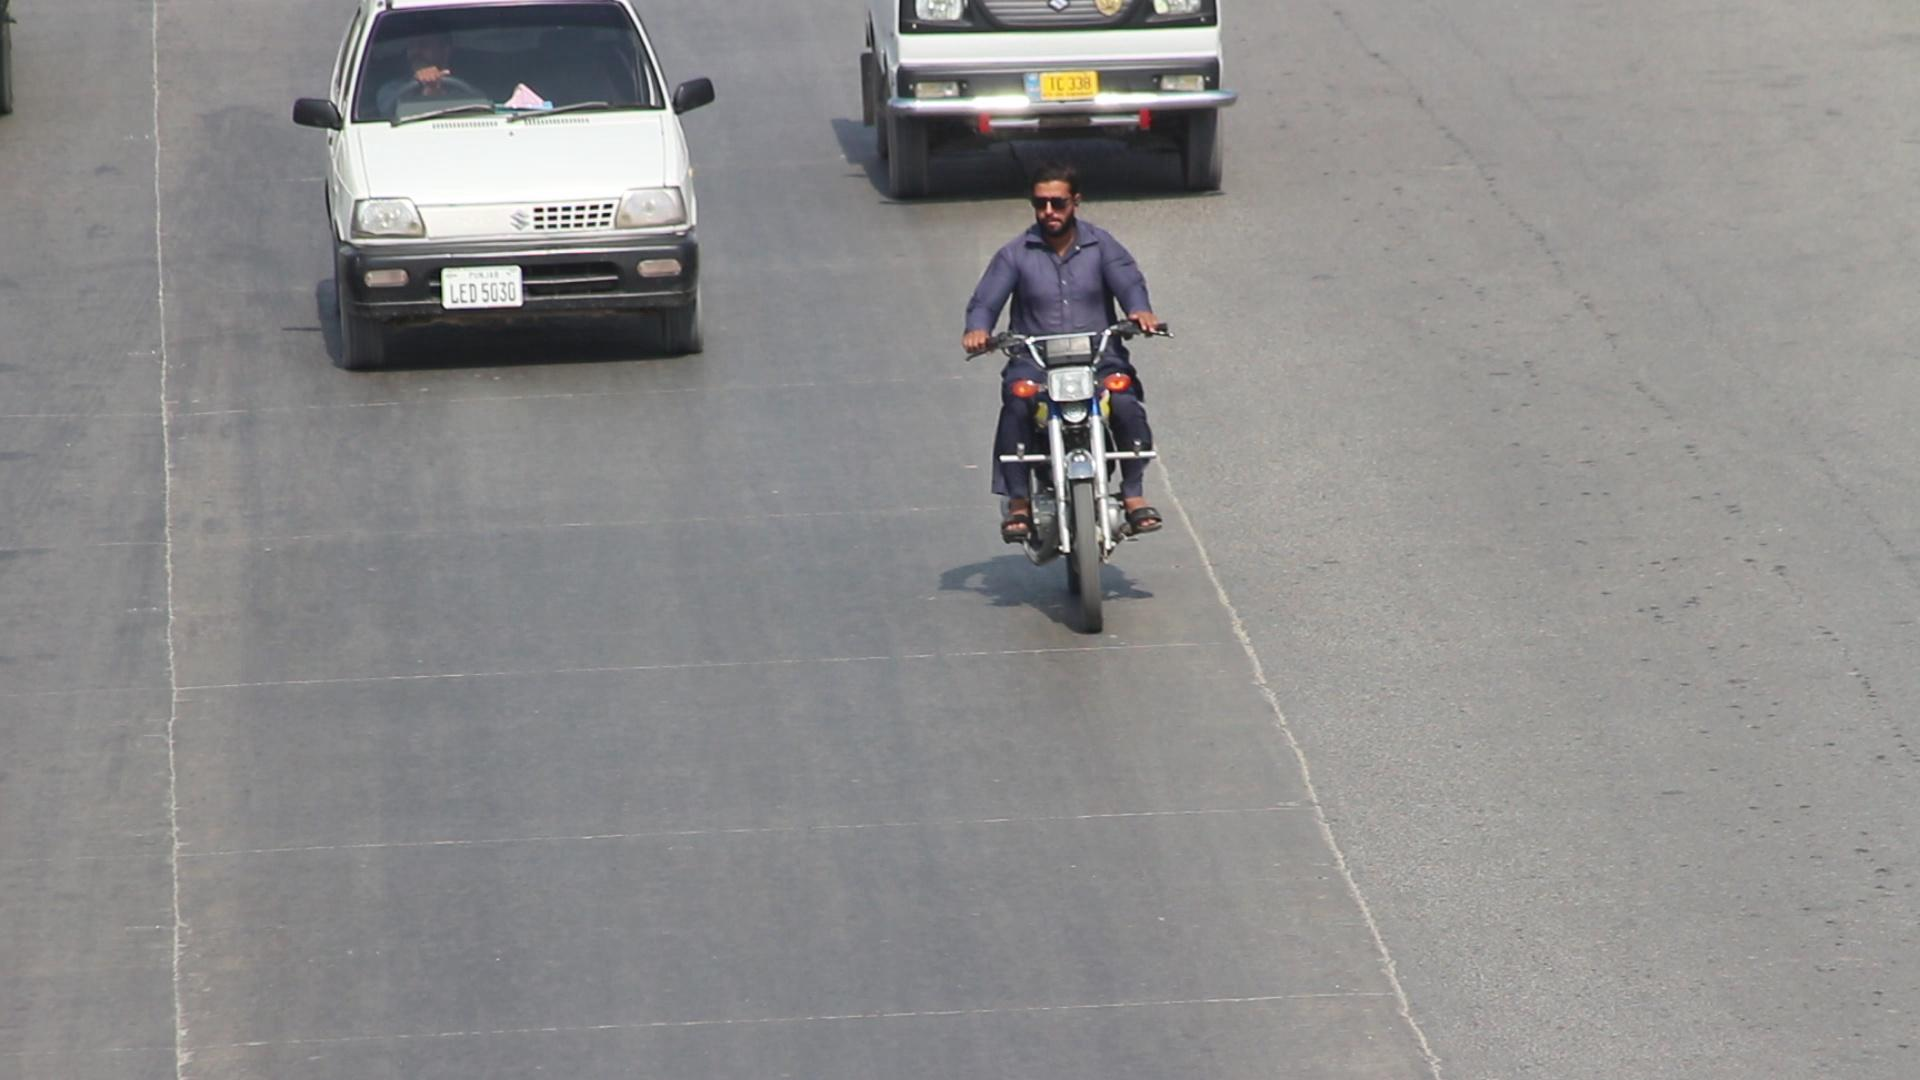windshield: (340, 7, 671, 120)
